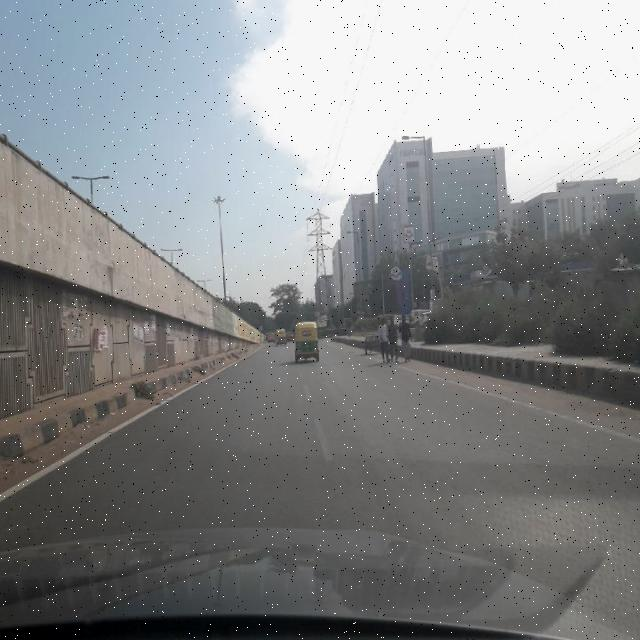D44: (293, 366, 339, 476)
